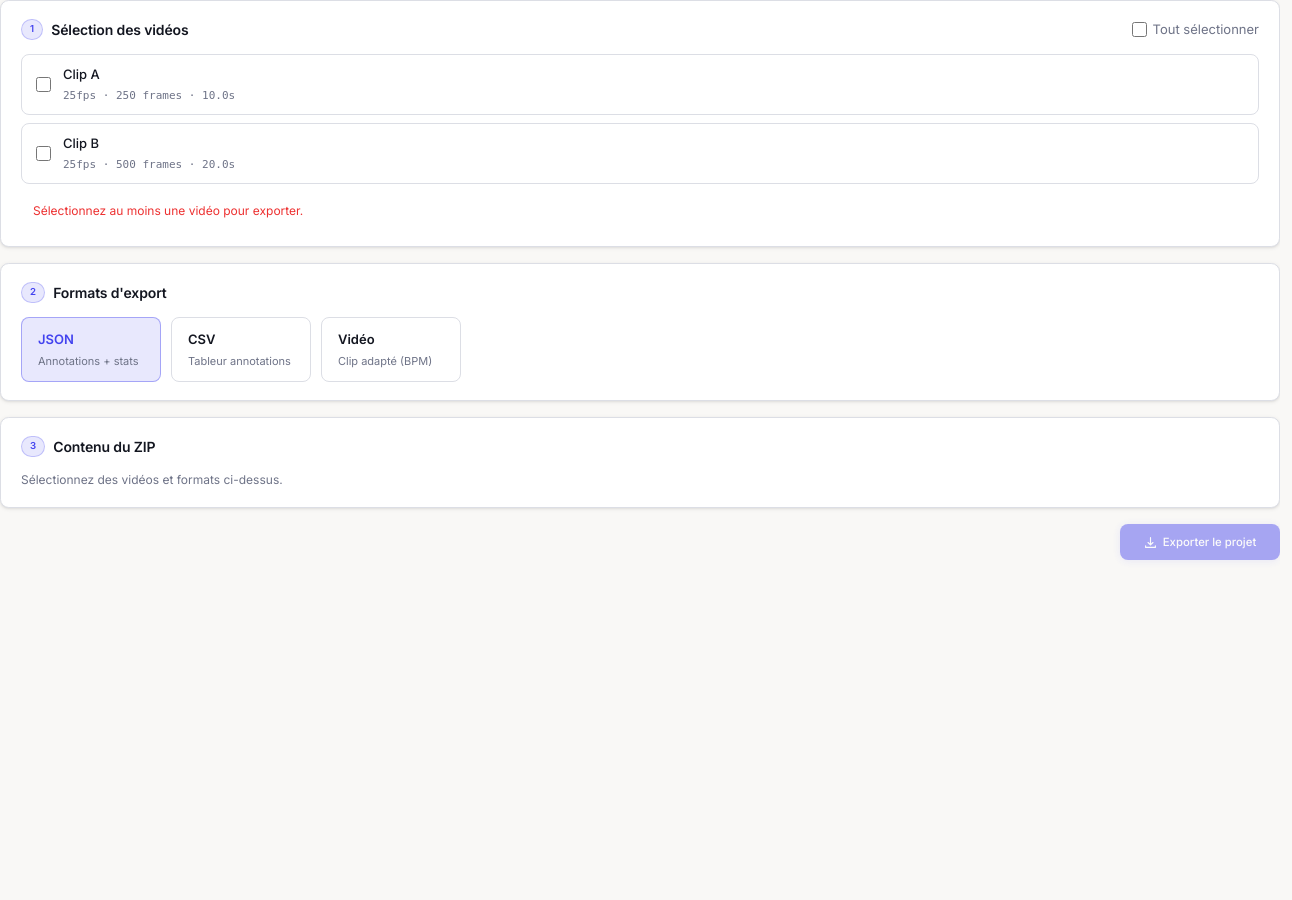
ExportPage › shows loading indicator during export
Click the checkbox labelled "Tout sélectionner" at (1139, 30), box [1132,22,1147,37]
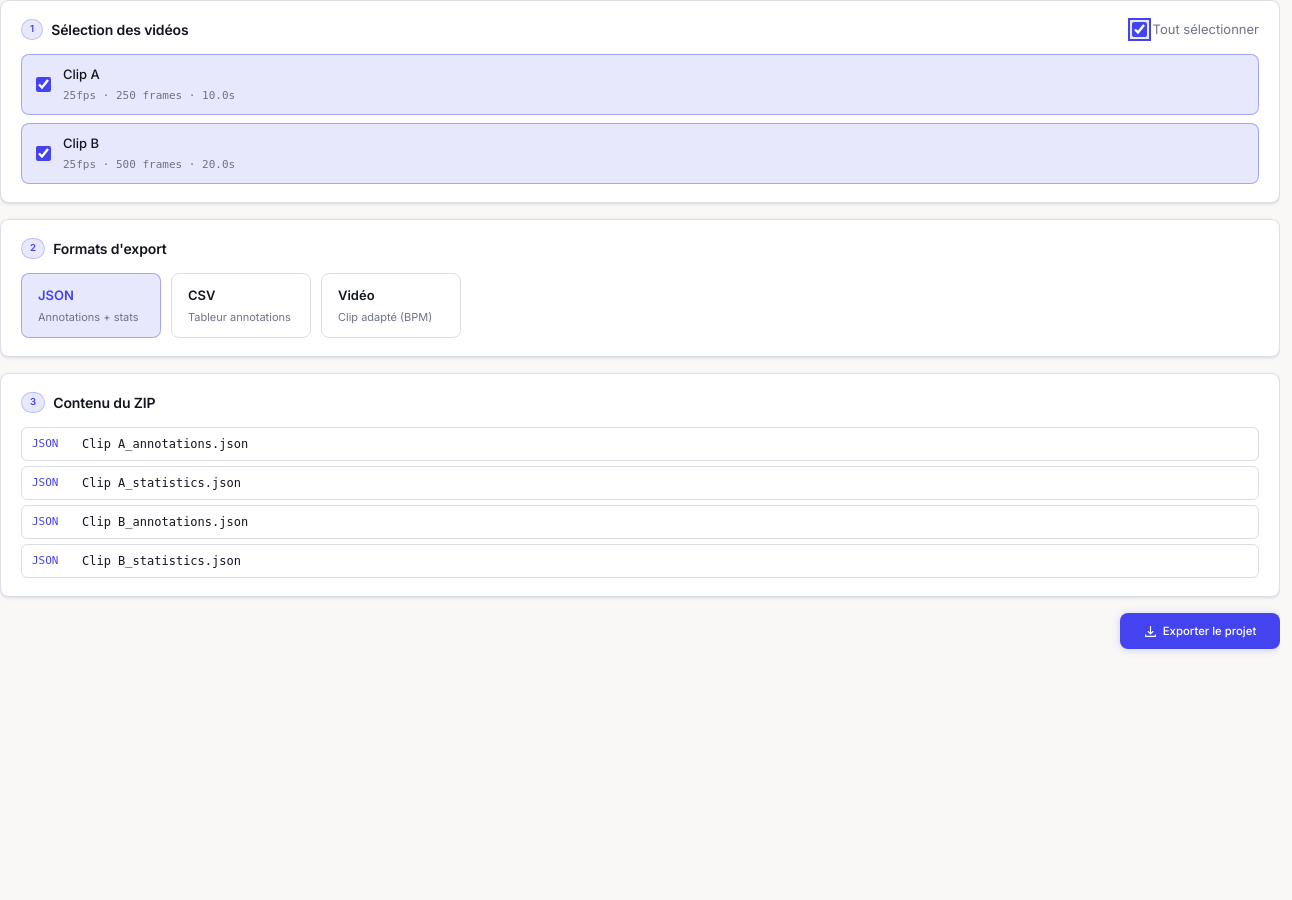
Click the button "Exporter le projet" at (1200, 631), box [1120,613,1280,649]
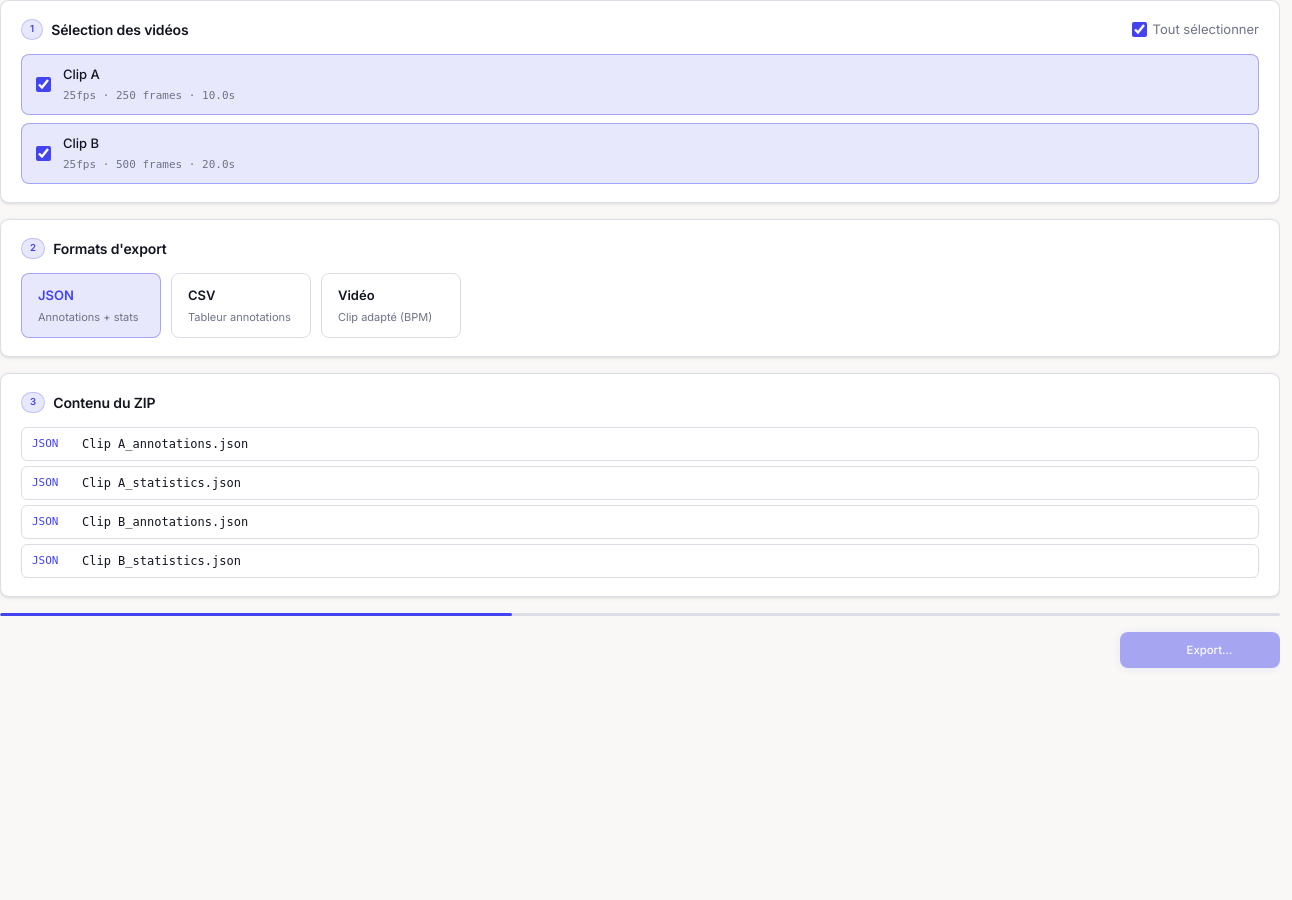
expect the progress indicator is shown: met, box [0,613,1280,616]
